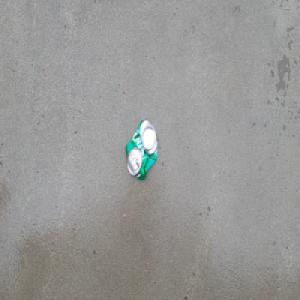SodaCan: (124, 118, 159, 182)
